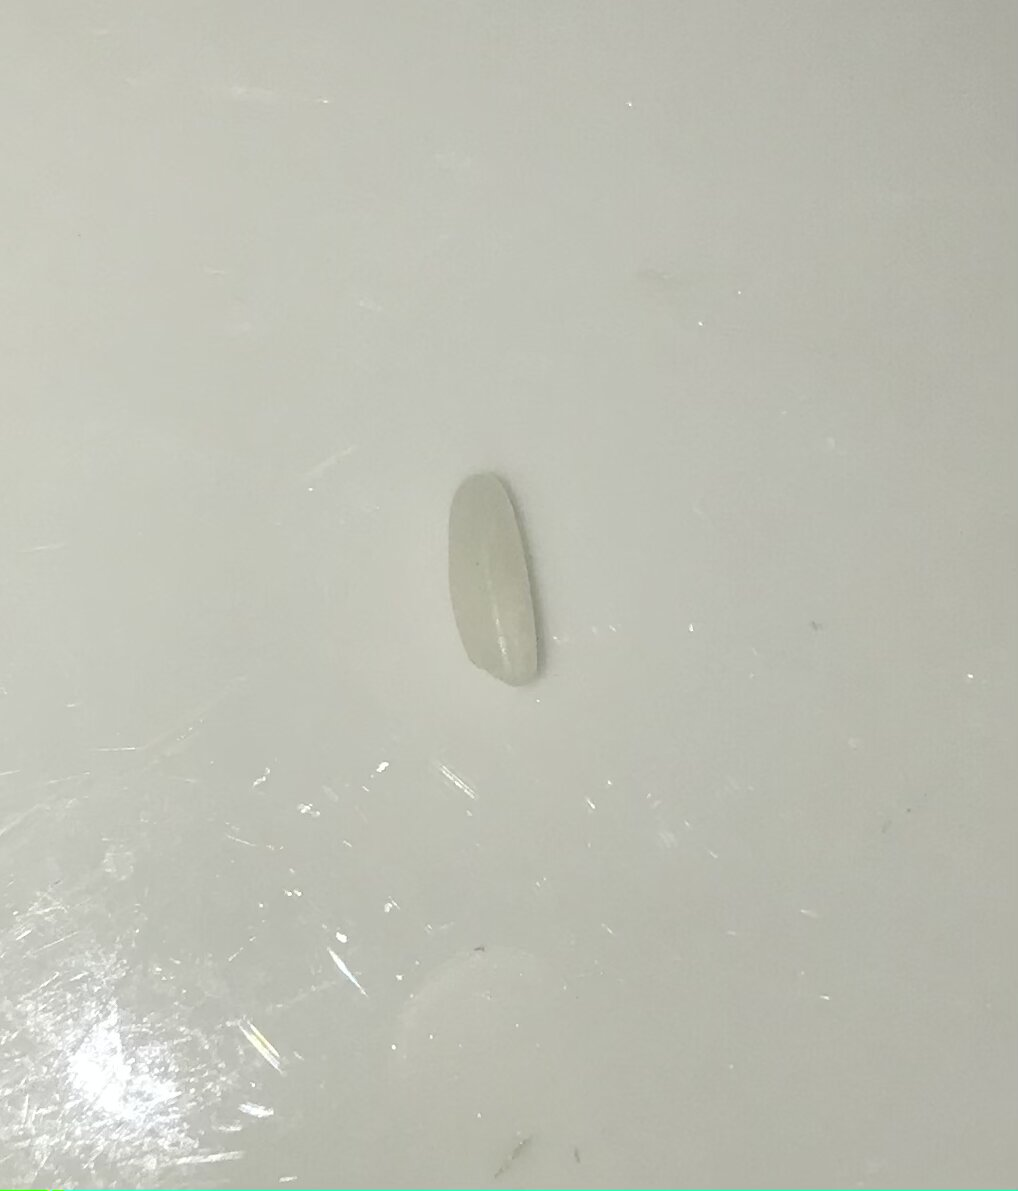Gao Lai Sua: (441, 470, 565, 698)
